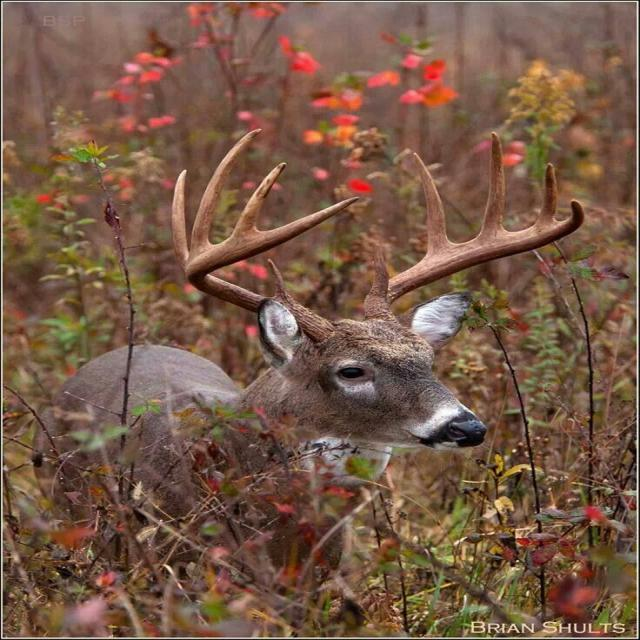L-F: (365, 198, 586, 325)
L-G1: (364, 248, 388, 306)
L-G2: (413, 151, 453, 255)
L-G3: (475, 131, 508, 239)
L-G4: (532, 163, 558, 227)
R-F: (185, 196, 361, 345)
R-G1: (265, 258, 295, 301)
R-G2: (171, 169, 192, 273)
R-G3: (190, 128, 264, 258)
R-G4: (226, 162, 286, 241)
